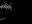person: (1, 3, 11, 13), (1, 19, 6, 23)
